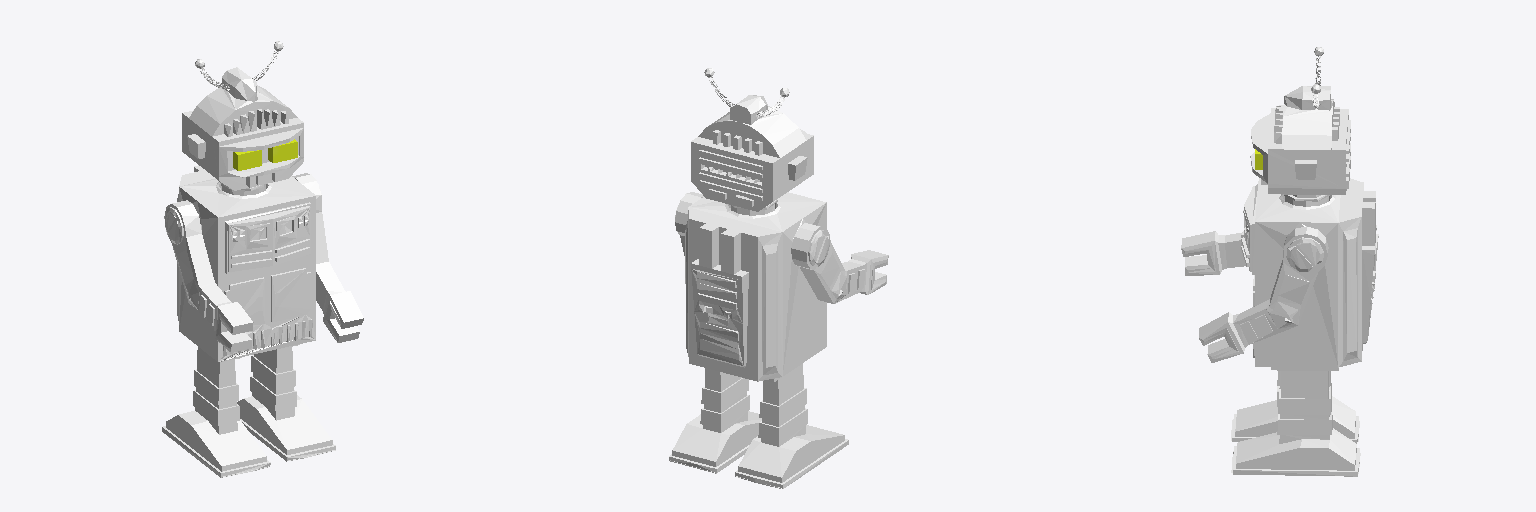
3 renders of one model, left to right at view 1: azimuth 30°, elevation 25°; view 2: azimuth 150°, elevation 25°; view 3: azimuth 270°, elevation 25°, orthographic.
Parts seen in each view (by area): view 1: Object001; view 2: Object001; view 3: Object001.
Part boxes in pixels (bbox=[...]): Object001: bbox=[162, 41, 363, 477]; Object001: bbox=[669, 68, 888, 488]; Object001: bbox=[1181, 47, 1378, 476].
Size of the model in its own units: 0.6325 by 1.6 by 0.7492.
Materials: 1 (1 with a texture image).